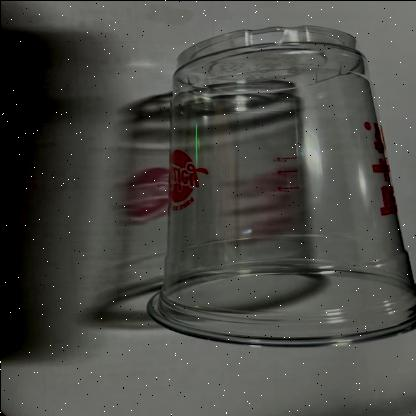Others: (141, 25, 414, 350)
